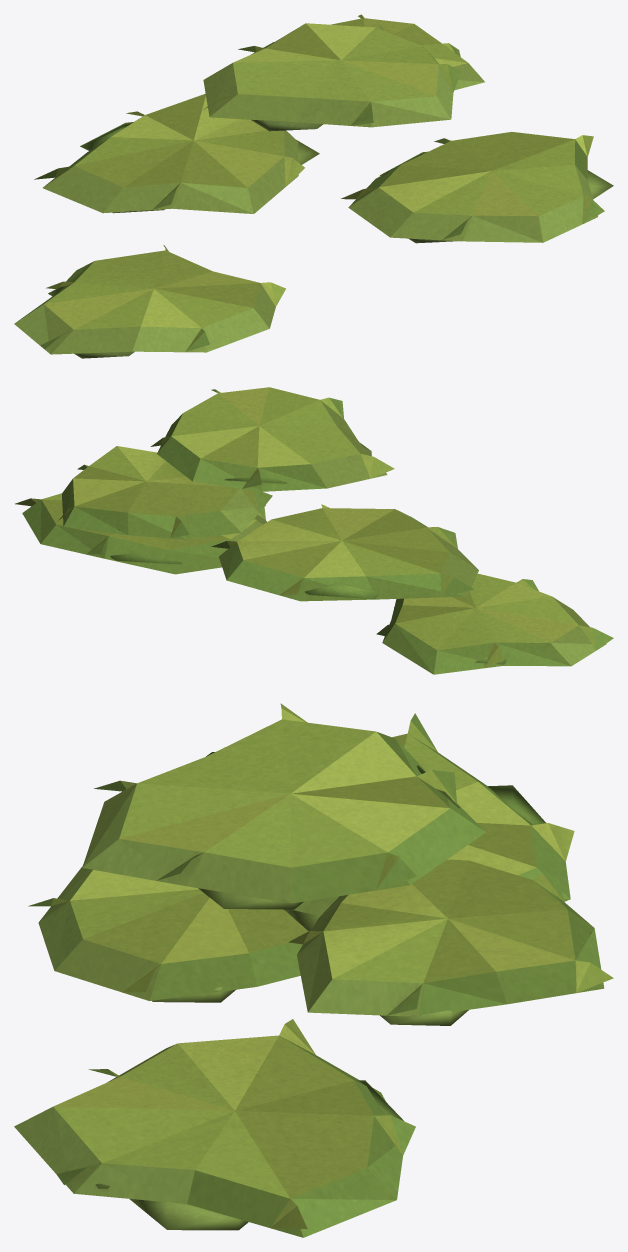
The model's file is Grand_Dojo_Arrival_Hero_Pine_Canopy.glb.
The picture shows the model from 3 angles, top to bottom: view 1: azimuth 30°, elevation 25°; view 2: azimuth 150°, elevation 25°; view 3: azimuth 270°, elevation 25°; orthographic projection. The views are drawn at different scales.
Visible parts, largest first — view 1: Grand Dojo Arrival Hero Pine Canopy; view 2: Grand Dojo Arrival Hero Pine Canopy; view 3: Grand Dojo Arrival Hero Pine Canopy.
Part boxes in pixels (<box>): Grand Dojo Arrival Hero Pine Canopy: <box>14,14,613,358</box>; Grand Dojo Arrival Hero Pine Canopy: <box>15,387,613,674</box>; Grand Dojo Arrival Hero Pine Canopy: <box>14,703,613,1237</box>.
Bounding box in the file's own units: 14.24 × 4.54 × 7.65.
1 material, 1 textured.
